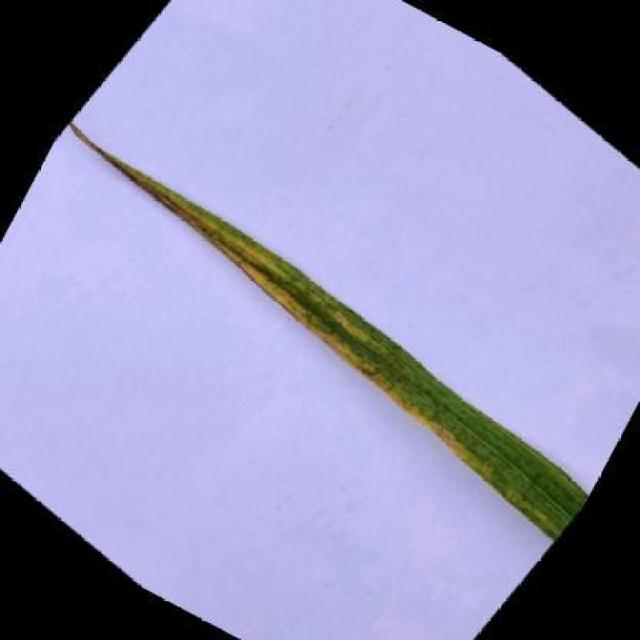Rice False Smut: (1, 121, 625, 542)
